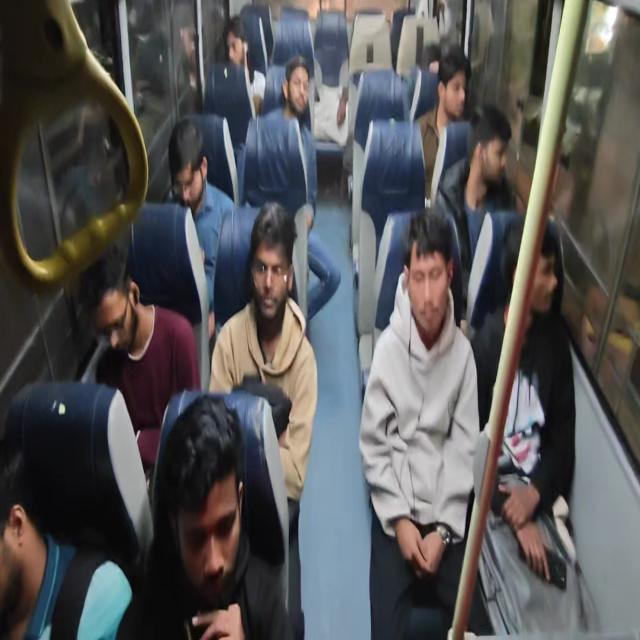person: (470, 214, 597, 636), (358, 208, 481, 638), (208, 200, 318, 637), (115, 393, 293, 639), (78, 243, 201, 478), (0, 447, 134, 639), (258, 54, 341, 323), (434, 103, 520, 327), (166, 118, 236, 334), (414, 44, 472, 204), (222, 15, 265, 117), (175, 20, 202, 115)
